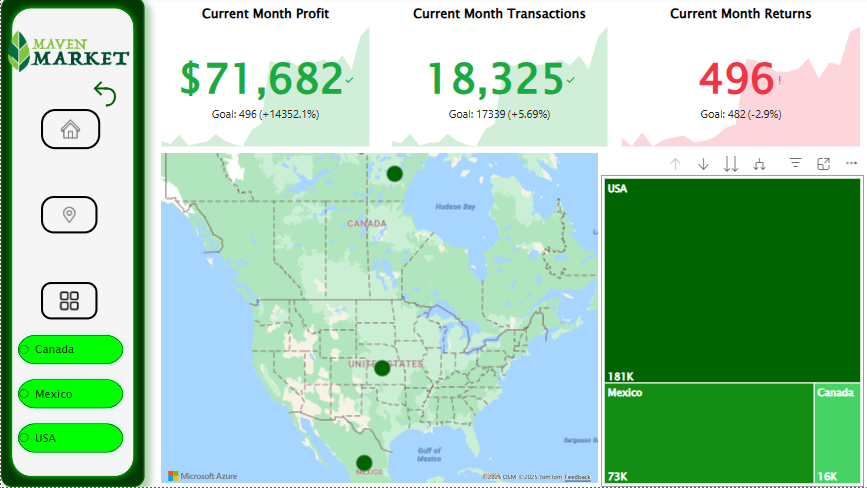

The page's visual inventory and layout, read from the dashboard file:
{"tool":"powerbi","page":{"name":"Maps and KPIs","canvas":[1280,720],"ordinal":1},"visuals":[{"type":"group","id":"g1","title":"Activity Pane","box":[0,0,210.9,720.4],"z":0},{"type":"shape","title":"Activity Pane","box":[0,0,210.9,720.4],"z":0,"group":"g1"},{"type":"actionButton","box":[59.5,164.5,87.1,58.6],"z":0,"group":"g2"},{"type":"image","title":"Maven market logo","box":[0,0,196.6,159.1],"z":1000,"group":"g1"},{"type":"kpi","title":"Current Month Profit","fields":{"TrendLine":["Calendar.Start of Month"],"Indicator":["_MEASURE TABLE.Total Profit"],"Goal":["_MEASURE TABLE.Total Returns"]},"box":[230.7,10.3,315.9,214.5],"z":1000},{"type":"actionButton","box":[59,293,82.7,55.3],"z":1000,"group":"g2"},{"type":"actionButton","box":[59,418.5,82.7,55.3],"z":2000,"group":"g2"},{"type":"listSlicer","fields":{"Values":["Stores.store_country"]},"box":[8.9,480.9,187.7,205.6],"z":2000},{"type":"treemap","fields":{"Group":["Stores.store_country","Stores.store_city","Stores.store_state"],"Values":["_MEASURE TABLE.Total Transactions"]},"box":[881.6,261.6,386.4,458.4],"z":3000},{"type":"kpi","title":"Current Month Transactions","fields":{"Indicator":["_MEASURE TABLE.Total Transactions"],"TrendLine":["Calendar.Start of Month"],"Goal":["_MEASURE TABLE.Last Month Transactions"]},"box":[568.7,10.3,327.7,214.5],"z":4000},{"type":"kpi","title":"Current Month Returns","fields":{"TrendLine":["Calendar.Start of Month"],"Indicator":["_MEASURE TABLE.Total Returns"],"Goal":["_MEASURE TABLE.Last Month Returns"]},"box":[906.6,10.3,361.5,214.5],"z":5000},{"type":"azureMap","fields":{"Category":["Stores.store_country"]},"box":[230.6,225.3,650.7,495.2],"z":6000},{"type":"group","id":"g2","title":"ICONS","box":[59,164.5,87.6,309.3],"z":7000},{"type":"actionButton","box":[120.5,105.8,64.7,73.5],"z":7001,"group":"g1"}]}

Visuals, with their boxes in screenshot pixels (x1, y1, x2, y2), scaled from the page's 1280x720 canvas onto the 867x488 screenshot:
"Activity Pane" group: rect(0, 0, 143, 487)
"Activity Pane" shape: rect(0, 0, 143, 487)
actionButton: rect(40, 111, 99, 151)
"Maven market logo" image: rect(0, 0, 133, 108)
"Current Month Profit" kpi: rect(156, 7, 370, 152)
actionButton: rect(40, 199, 96, 236)
actionButton: rect(40, 284, 96, 321)
listSlicer - Stores.store_country: rect(6, 326, 133, 465)
treemap - Stores.store_country x Stores.store_city: rect(597, 177, 859, 487)
"Current Month Transactions" kpi: rect(385, 7, 607, 152)
"Current Month Returns" kpi: rect(614, 7, 859, 152)
azureMap - Stores.store_country: rect(156, 153, 597, 487)
"ICONS" group: rect(40, 111, 99, 321)
actionButton: rect(82, 72, 125, 122)
